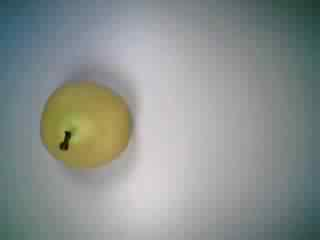pear: (29, 70, 140, 176)
